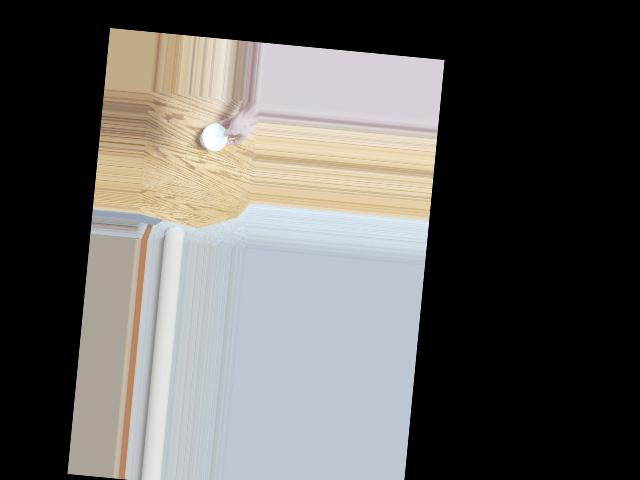cotage: (199, 122, 230, 157)
